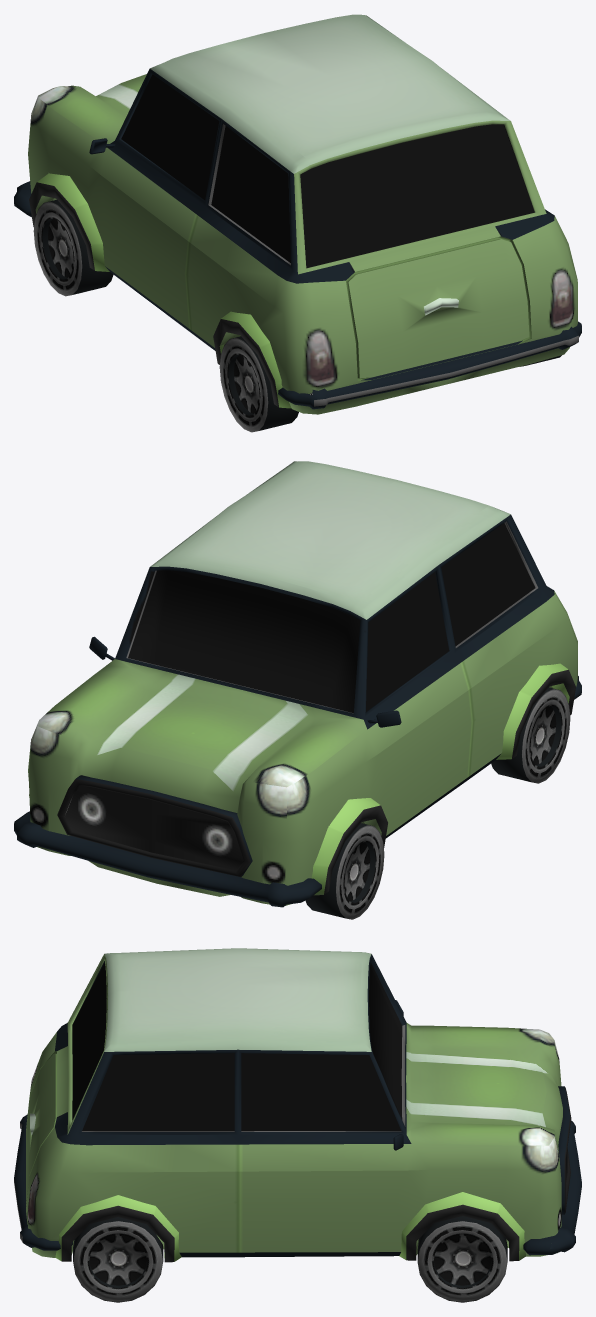
The model's file is taxi05.FBX.
3 renders of one model, top to bottom at view 1: azimuth 30°, elevation 25°; view 2: azimuth 150°, elevation 25°; view 3: azimuth 270°, elevation 25°, orthographic. The views are drawn at different scales.
Visible parts, largest first — view 1: CityCar_01_005, tyre3, tyre1; view 2: CityCar_01_005, tyre3, tyre1; view 3: CityCar_01_005, tyre3, tyre2.
Part boxes in pixels (x1,y1,x2,y2): CityCar_01_005: (14, 14, 581, 414); tyre3: (33, 199, 113, 296); tyre1: (219, 336, 298, 432); CityCar_01_005: (14, 461, 581, 907); tyre3: (305, 823, 384, 919); tyre1: (491, 687, 570, 783); CityCar_01_005: (14, 948, 581, 1262); tyre3: (417, 1216, 507, 1302); tyre2: (73, 1217, 163, 1302).
Size of the model in its own units: 24.79 by 20.33 by 41.93.
